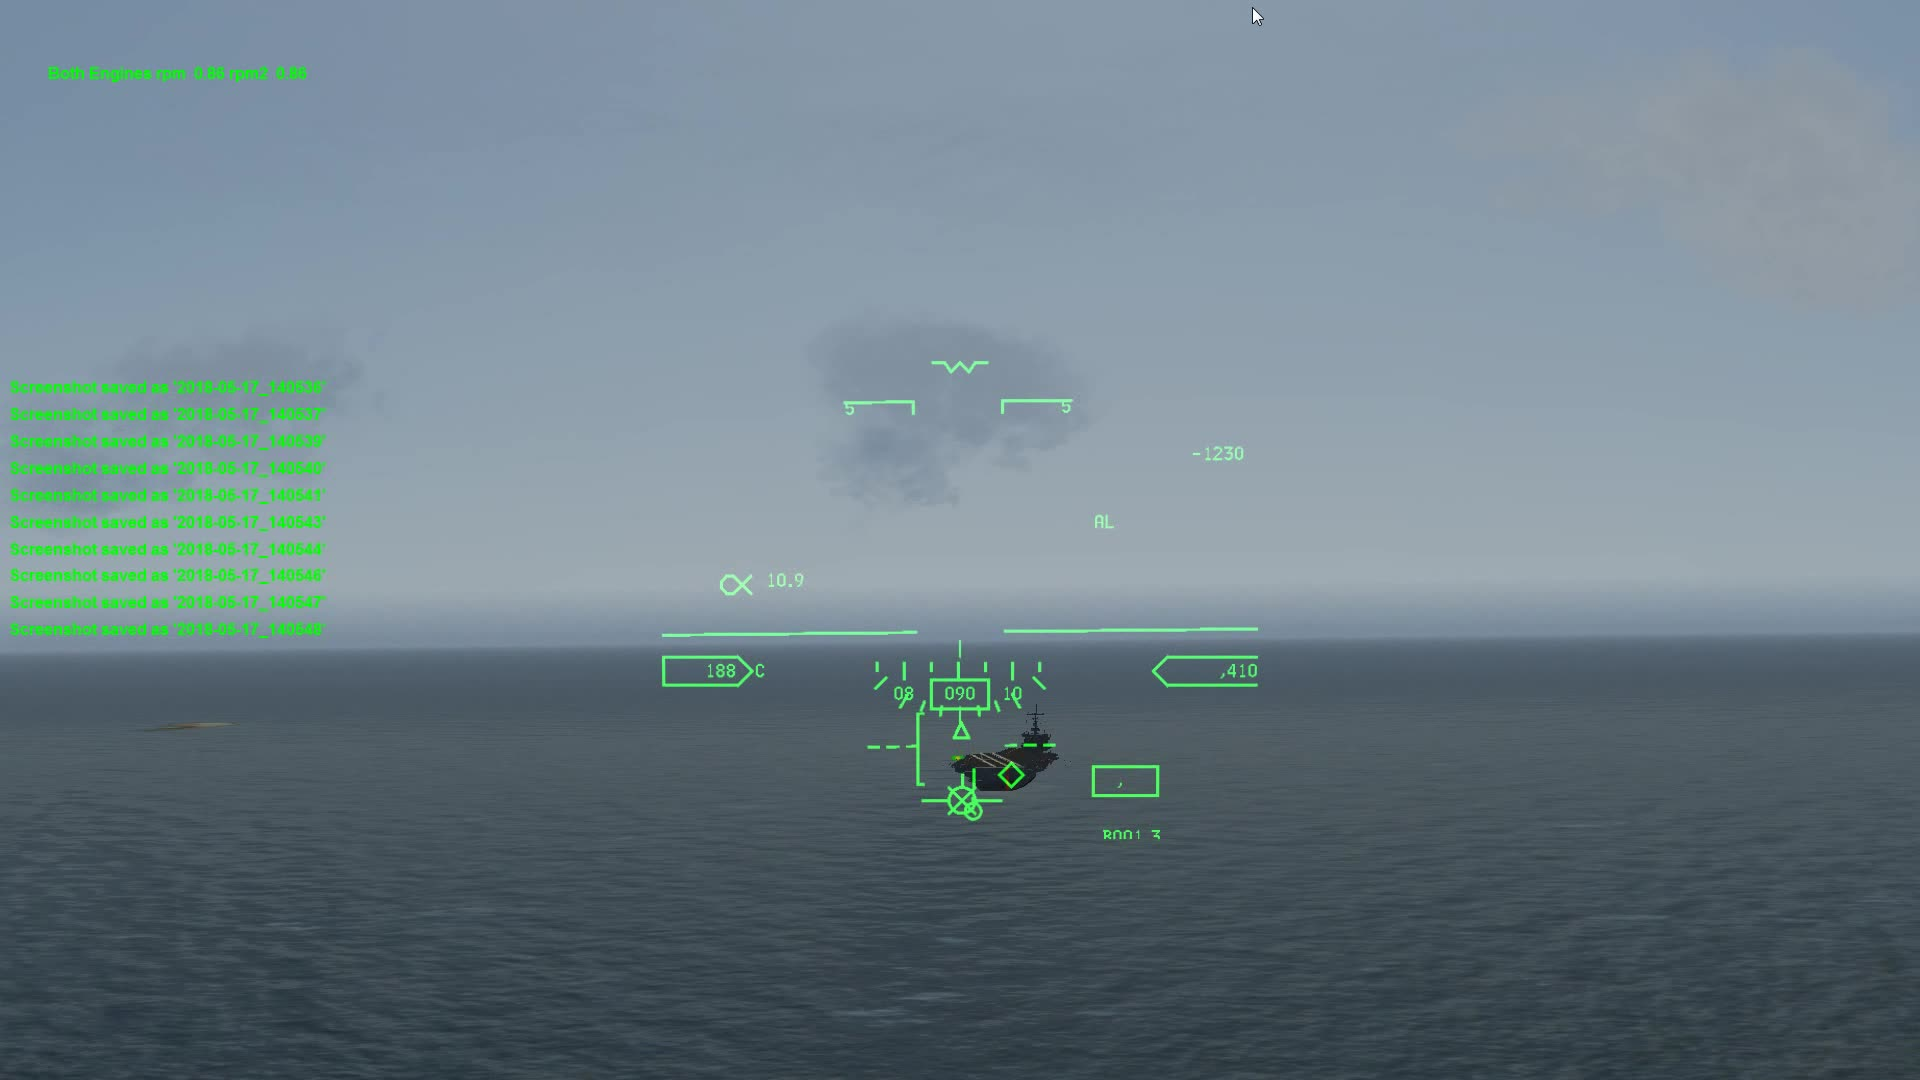speed vector: (927, 781, 1000, 819)
